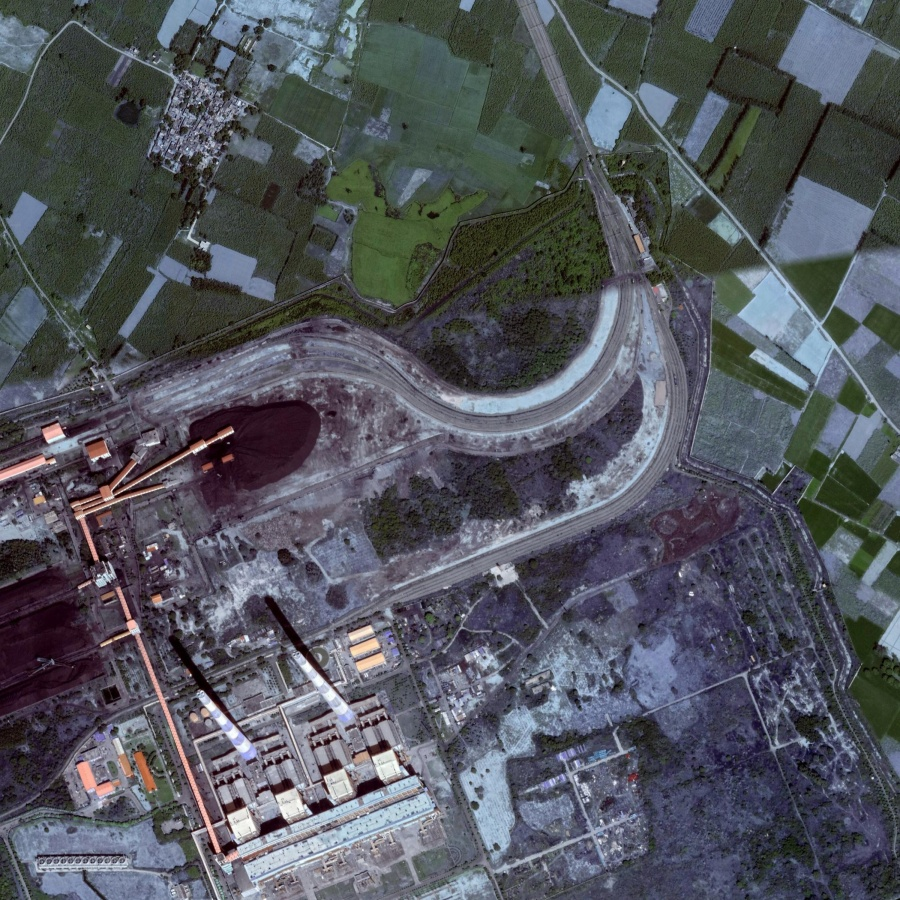PowerPlant: (158, 588, 395, 794)
